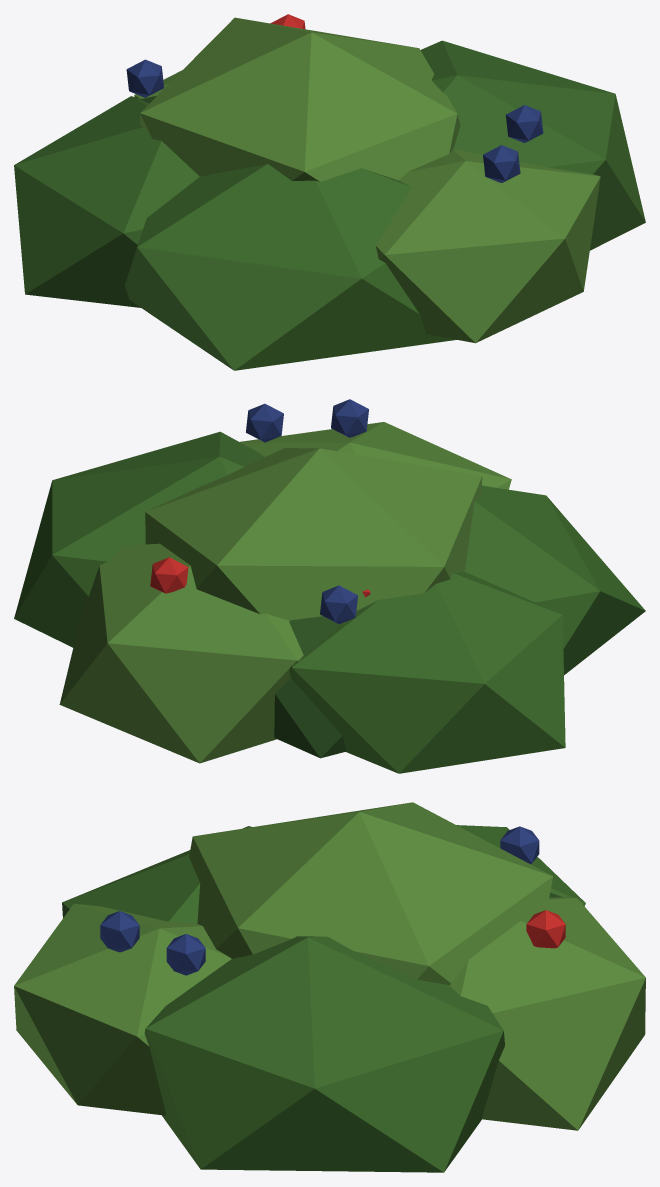
File: forest_shrub.glb
3 views of the same model, one above another, from view 1: azimuth 30°, elevation 25°; view 2: azimuth 150°, elevation 25°; view 3: azimuth 270°, elevation 25° (orthographic). The views are drawn at different scales.
Visible parts, largest first — view 1: forest_shrub; view 2: forest_shrub; view 3: forest_shrub.
Part boxes in pixels (x1,y1,x2,y2): forest_shrub: (14,14,645,370); forest_shrub: (14,399,645,773); forest_shrub: (14,802,645,1172).
Bounding box in the file's own units: 1.34 × 0.5607 × 1.23.
